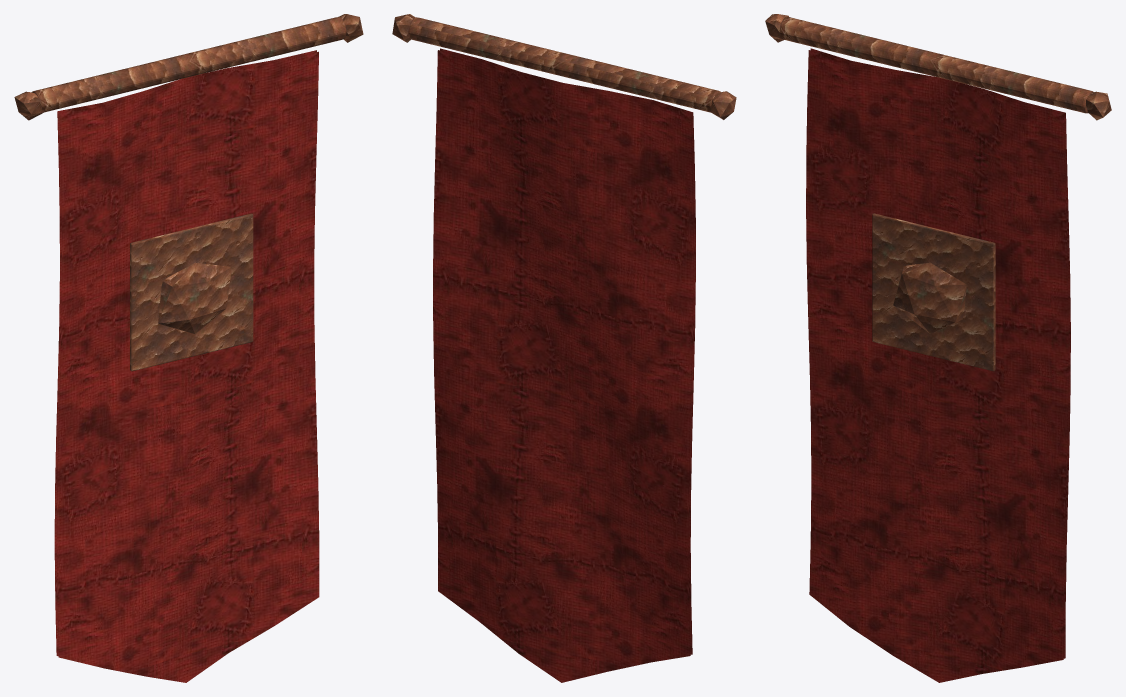
Rendered from banner__copper_ingot.glb.
3 views of the same model, side by side, from view 1: azimuth 30°, elevation 25°; view 2: azimuth 150°, elevation 25°; view 3: azimuth 330°, elevation 25° (orthographic).
Parts seen in each view (by area): view 1: model; view 2: model; view 3: model.
Part boxes in pixels (<box>): model: <box>14,14,363,682</box>; model: <box>392,14,736,682</box>; model: <box>765,14,1111,682</box>.
Bounding box in the file's own units: 1.11 × 1.97 × 0.1093.
3 materials, 3 textured.
